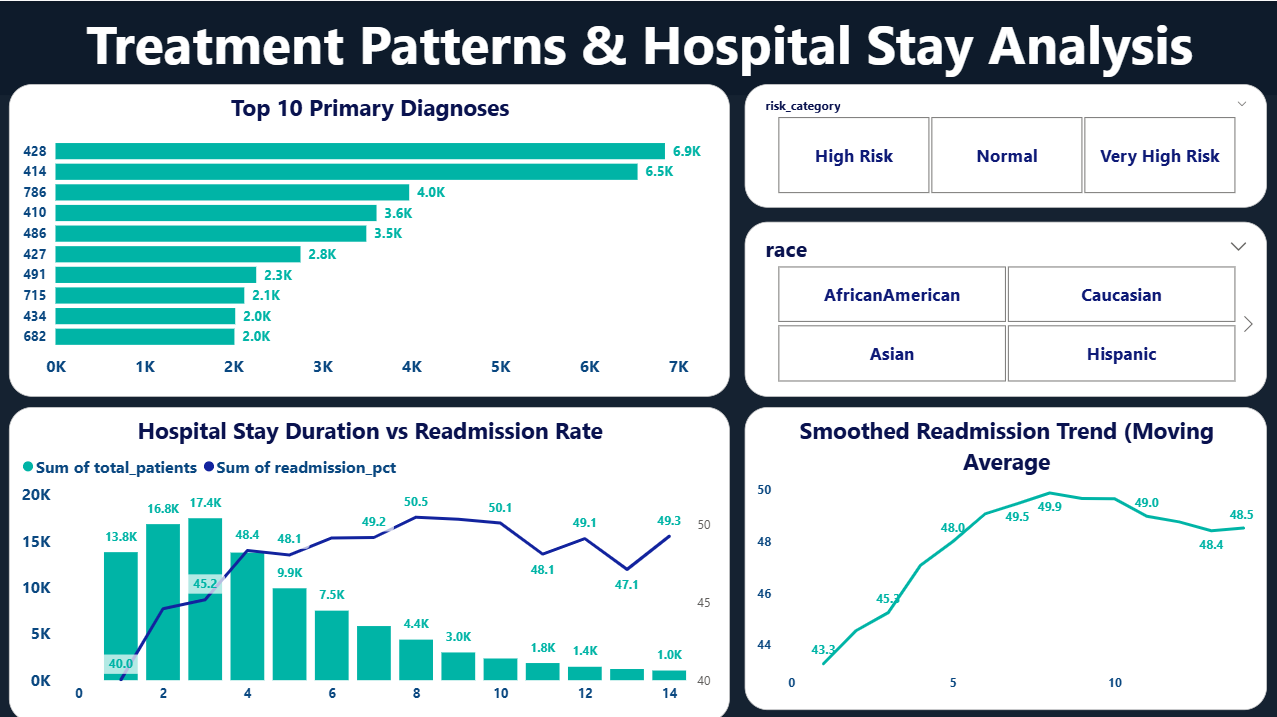

The dashboard page shown, as its layout file describes it:
{"tool":"powerbi","page":{"name":"Treatment Patterns & Hospital Stay Analysis","canvas":[1280,720],"ordinal":2},"visuals":[{"type":"textbox","box":[0,0,1280.6,93.8],"z":0},{"type":"lineClusteredColumnComboChart","title":"Hospital Stay Duration vs Readmission Rate","fields":{"Category":["q2_hospital_stay.time_in_hospital"],"Y":["Sum(q2_hospital_stay.total_patients)"],"Y2":["Sum(q2_hospital_stay.readmission_pct)"]},"box":[11.1,405.7,719.5,313.8],"z":1000},{"type":"lineChart","title":"Smoothed Readmission Trend (Moving Average","fields":{"Category":["q2_hospital_stay.time_in_hospital"],"Y":["Sum(q2_hospital_stay.moving_avg_readmission)"]},"box":[744.8,405.7,521.4,302.7],"z":2000},{"type":"slicer","fields":{"Values":["q4_risk_segmentation.risk_category"]},"box":[744.8,82.4,521.4,123.6],"z":3000},{"type":"clusteredBarChart","title":"Top 10 Primary Diagnoses","fields":{"Category":["diabetic_data_clean.diag_1"],"Y":["CountNonNull(diabetic_data_clean.diag_1)"]},"box":[11.1,82.4,719.5,312.2],"z":3002},{"type":"slicer","fields":{"Values":["diabetic_data_clean.race"]},"box":[744.8,220.3,521.4,174.3],"z":3003}]}

Visuals, with their boxes in screenshot pixels (x1, y1, x2, y2), scaled from the page's 1280x720 canvas onto the 1277x717 screenshot:
textbox: bbox=[0, 0, 1276, 93]
"Hospital Stay Duration vs Readmission Rate" lineClusteredColumnComboChart: bbox=[11, 404, 729, 716]
"Smoothed Readmission Trend (Moving Average" lineChart: bbox=[743, 404, 1263, 705]
slicer - q4_risk_segmentation.risk_category: bbox=[743, 82, 1263, 205]
"Top 10 Primary Diagnoses" clusteredBarChart: bbox=[11, 82, 729, 393]
slicer - diabetic_data_clean.race: bbox=[743, 219, 1263, 393]
